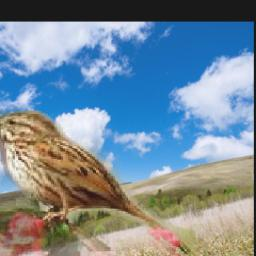Sparrow: (0, 106, 202, 256)
